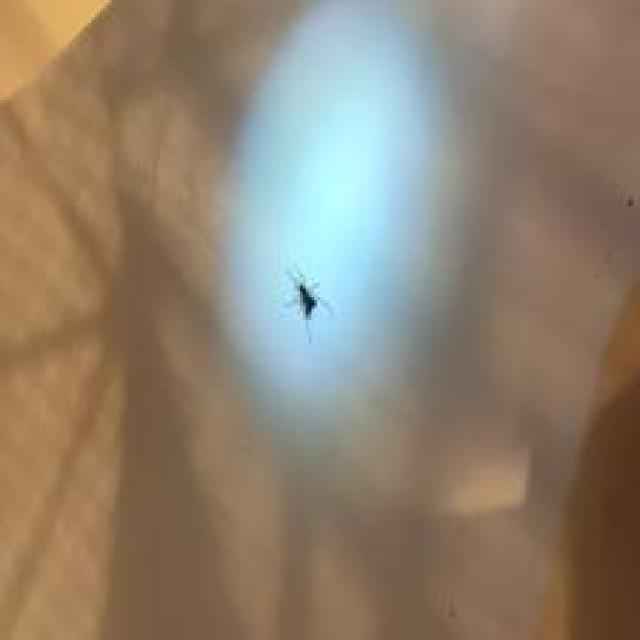Aedes albopictus: (284, 264, 333, 342)
